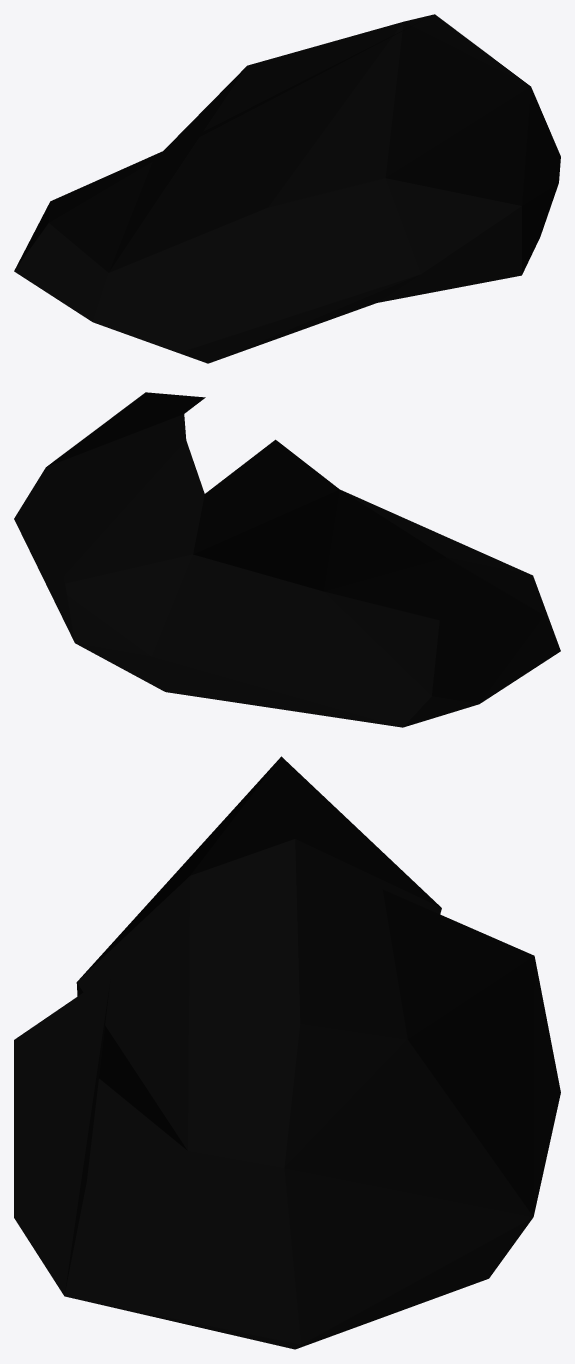
3 renders of one model, top to bottom at view 1: azimuth 30°, elevation 25°; view 2: azimuth 150°, elevation 25°; view 3: azimuth 270°, elevation 25°, orthographic. The views are drawn at different scales.
Size of the model in its own units: 0.7147 by 0.363 by 0.3929.
1 material, 1 textured.
